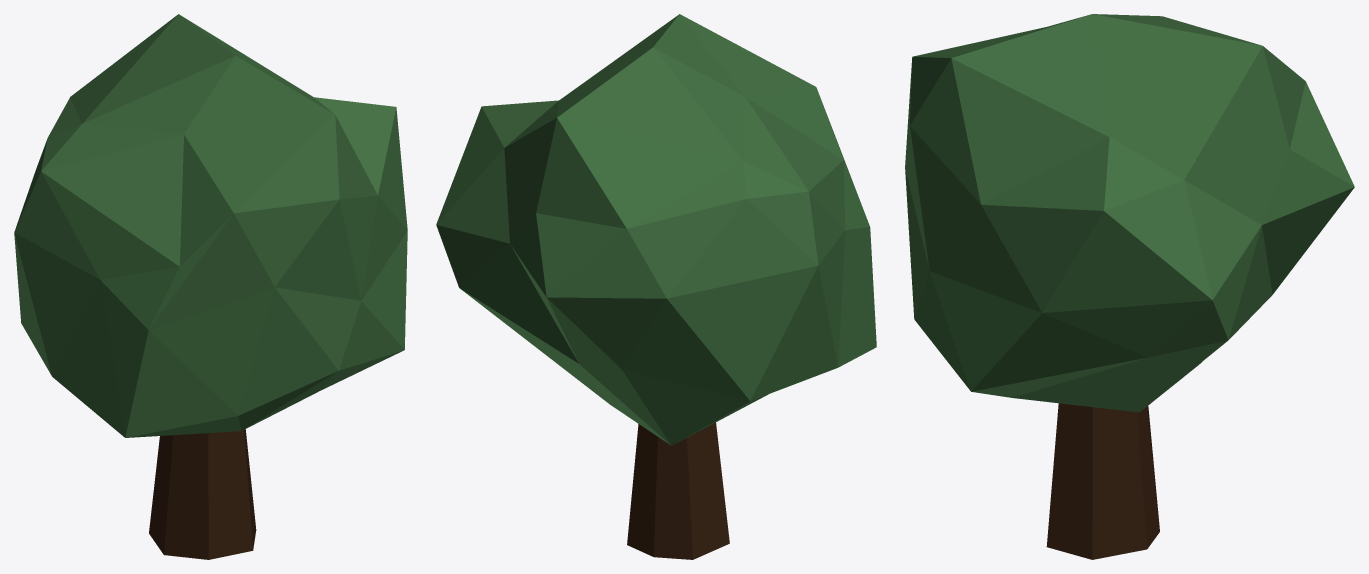
The model's file is SmallTree.glb.
3 views of the same model, side by side, from view 1: azimuth 30°, elevation 25°; view 2: azimuth 150°, elevation 25°; view 3: azimuth 270°, elevation 25° (orthographic). The views are drawn at different scales.
Parts seen in each view (by area): view 1: SmallTree; view 2: SmallTree; view 3: SmallTree.
Boxes of the visible parts, x1=… form: SmallTree: x1=14, y1=14, x2=407, y2=559; SmallTree: x1=436, y1=14, x2=876, y2=559; SmallTree: x1=905, y1=14, x2=1354, y2=559.
Bounding box in the file's own units: 2.53 × 3.23 × 2.46.
